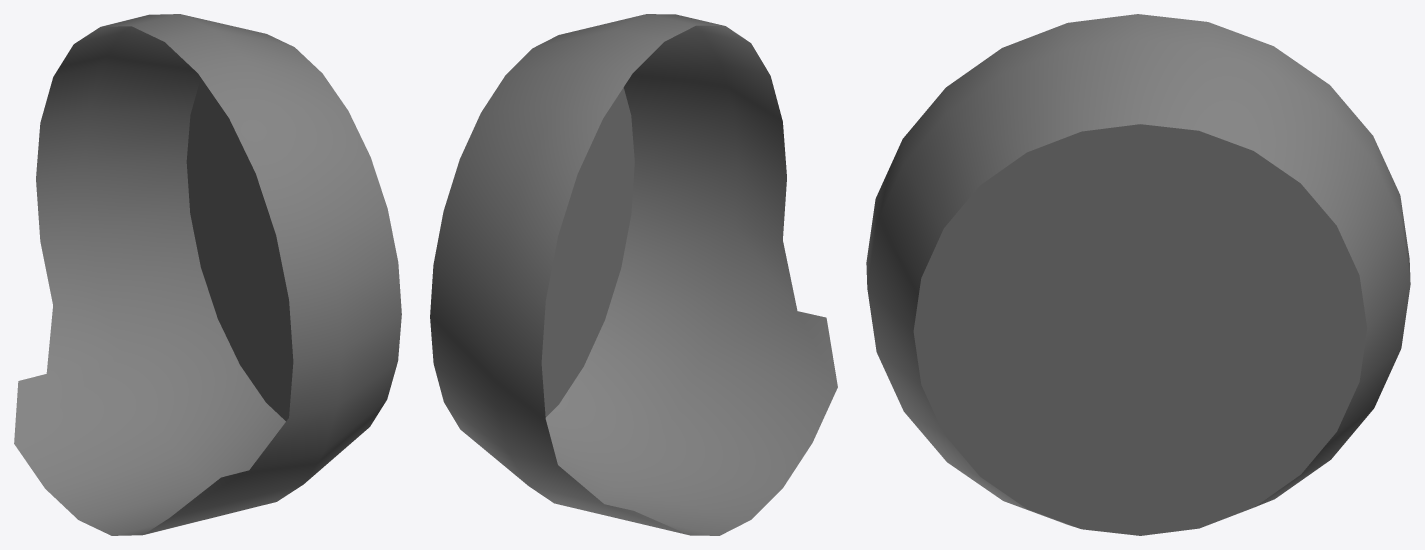
Rendered from q-scifi-mod-wallwindow-cap-b.glb.
3 views of the same model, side by side, from view 1: azimuth 30°, elevation 25°; view 2: azimuth 150°, elevation 25°; view 3: azimuth 270°, elevation 25° (orthographic). The views are drawn at different scales.
Visible parts, largest first — view 1: WallWindow_Cap_B; view 2: WallWindow_Cap_B; view 3: WallWindow_Cap_B.
Part boxes in pixels (bbox=[...]): WallWindow_Cap_B: bbox=[14, 14, 401, 535]; WallWindow_Cap_B: bbox=[430, 14, 837, 535]; WallWindow_Cap_B: bbox=[866, 14, 1410, 535].
Size of the model in its own units: 0.2008 by 0.3958 by 0.3954.
Materials: 2 (2 with a texture image).
